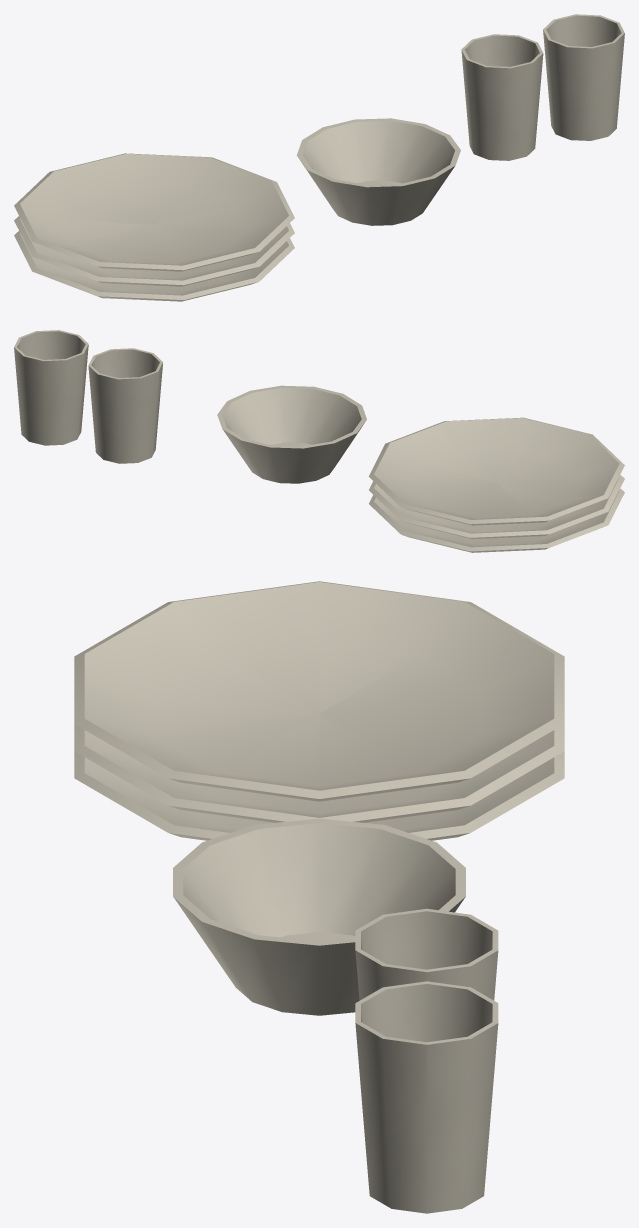
The model's file is Dishes_Stack.fbx.
3 renders of one model, top to bottom at view 1: azimuth 30°, elevation 25°; view 2: azimuth 150°, elevation 25°; view 3: azimuth 270°, elevation 25°, orthographic. The views are drawn at different scales.
Parts seen in each view (by area): view 1: Dishes_Stack; view 2: Dishes_Stack; view 3: Dishes_Stack.
Boxes of the visible parts, left/top/right/bottom form: Dishes_Stack: left=14, top=14, right=624, bottom=301; Dishes_Stack: left=14, top=330, right=624, bottom=552; Dishes_Stack: left=74, top=581, right=564, bottom=1213.
Size of the model in its own units: 0.605 by 0.09 by 0.2283.
